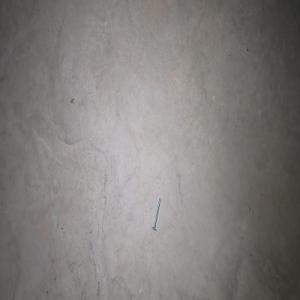Bolt: (151, 196, 161, 231)
